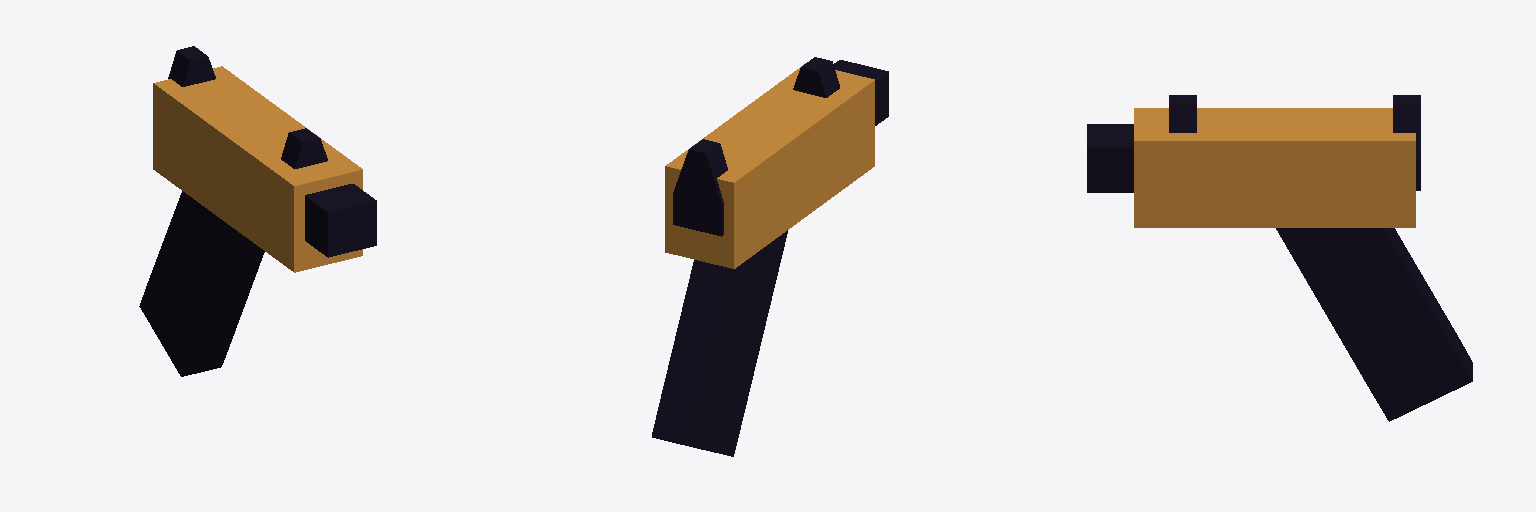
File: gun.obj
3 views of the same model, side by side, from view 1: azimuth 30°, elevation 25°; view 2: azimuth 150°, elevation 25°; view 3: azimuth 270°, elevation 25° (orthographic).
Parts seen in each view (by area): view 1: Box003; view 2: Box003; view 3: Box003.
Part boxes in pixels (x1,y1,x2,y2): Box003: (139, 46, 376, 376); Box003: (652, 57, 888, 456); Box003: (1087, 95, 1472, 421).
Bounding box in the file's own units: 0.0102 × 0.0441 × 0.0493.